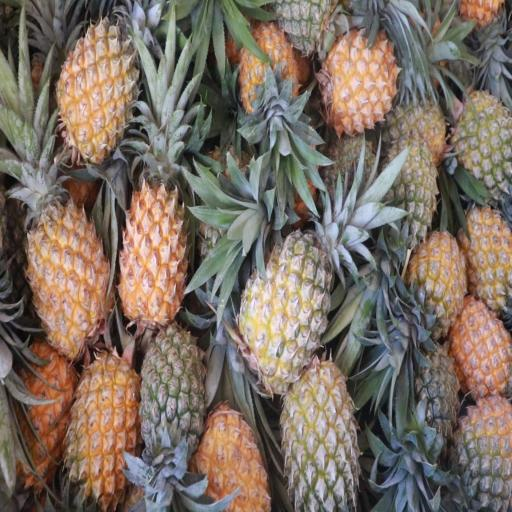------------------------------: (244, 238, 330, 383), (286, 359, 360, 512)
Pineapple - v8 v1: (30, 180, 106, 348), (67, 353, 140, 499), (61, 24, 137, 159), (122, 174, 190, 323), (11, 344, 76, 482), (199, 399, 270, 512), (327, 32, 398, 128), (236, 28, 298, 124), (457, 304, 512, 400), (412, 233, 464, 329), (463, 208, 512, 308)
